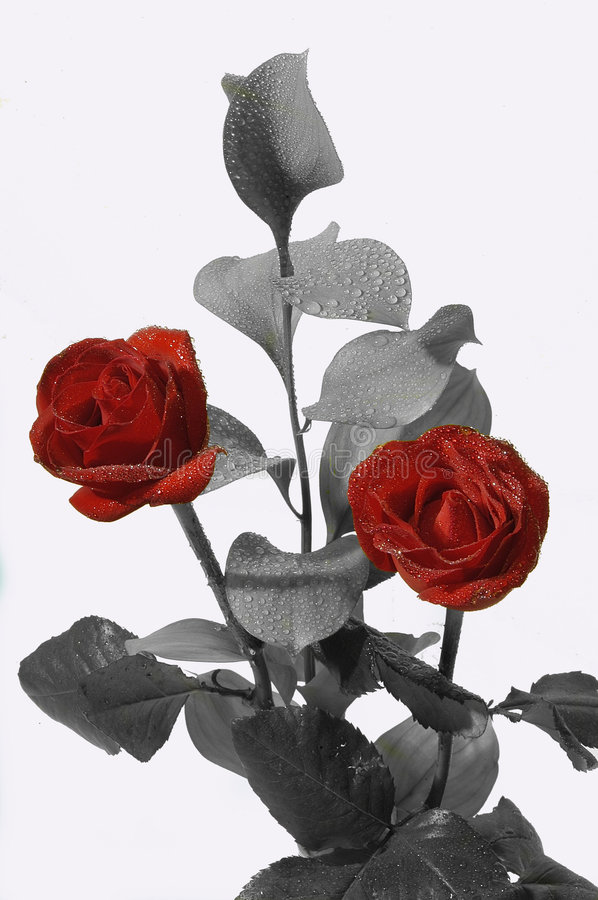RedRose: (339, 407, 564, 640), (33, 321, 232, 542)
